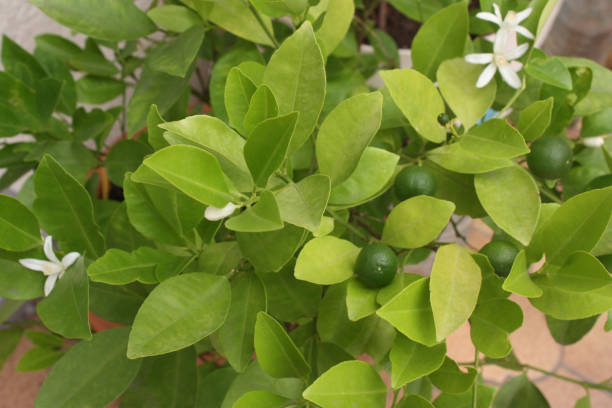flower: (465, 38, 535, 92), (21, 237, 83, 295), (462, 7, 538, 45)
